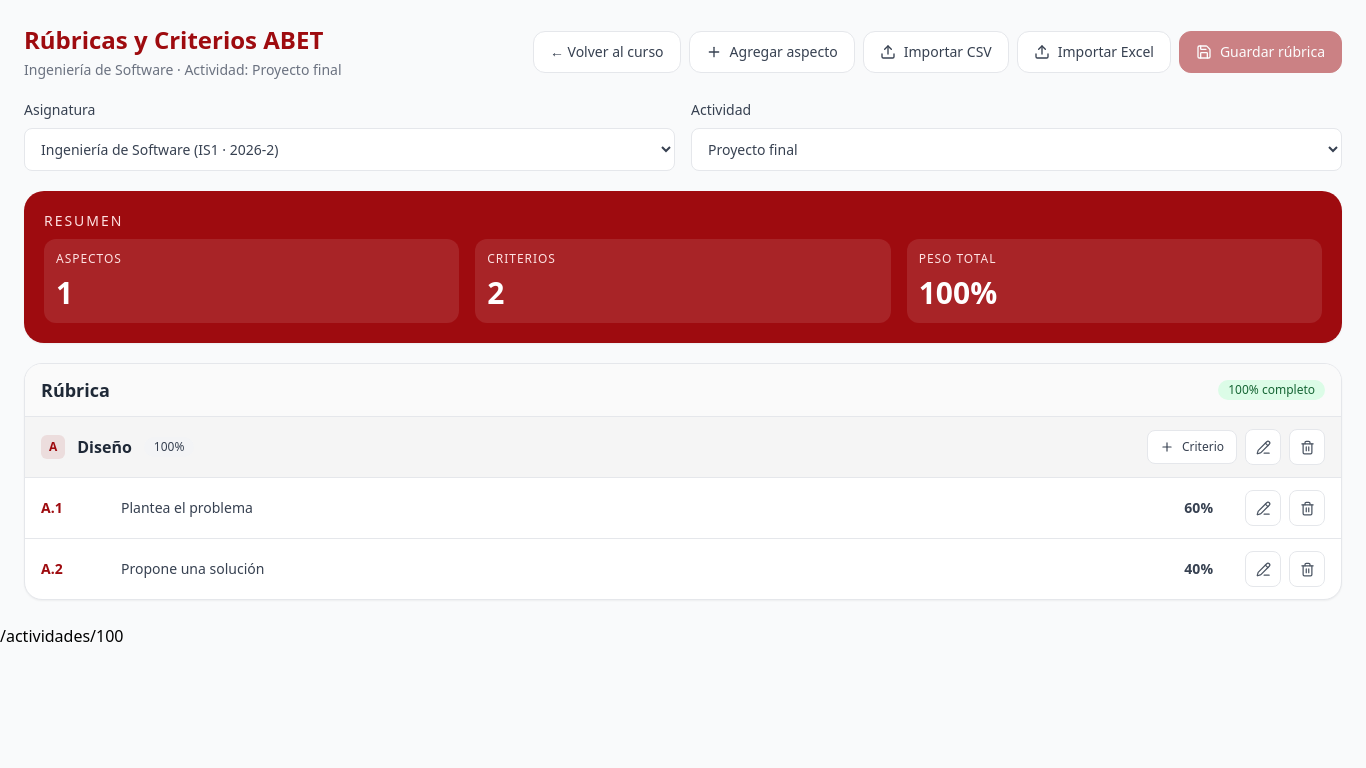
Test: RubricaPage — editar el borrador › vincular un aspecto a ABET pide RA y luego Criterio, y muestra la insignia
The width and height of the screenshot is (1366, 768).
Check: the button named "Eliminar Diseño" is shown, box top-left (1289, 429), bottom-right (1325, 465)
Click the button named "Editar Diseño": (1263, 447) top-left (1245, 429), bottom-right (1281, 465)
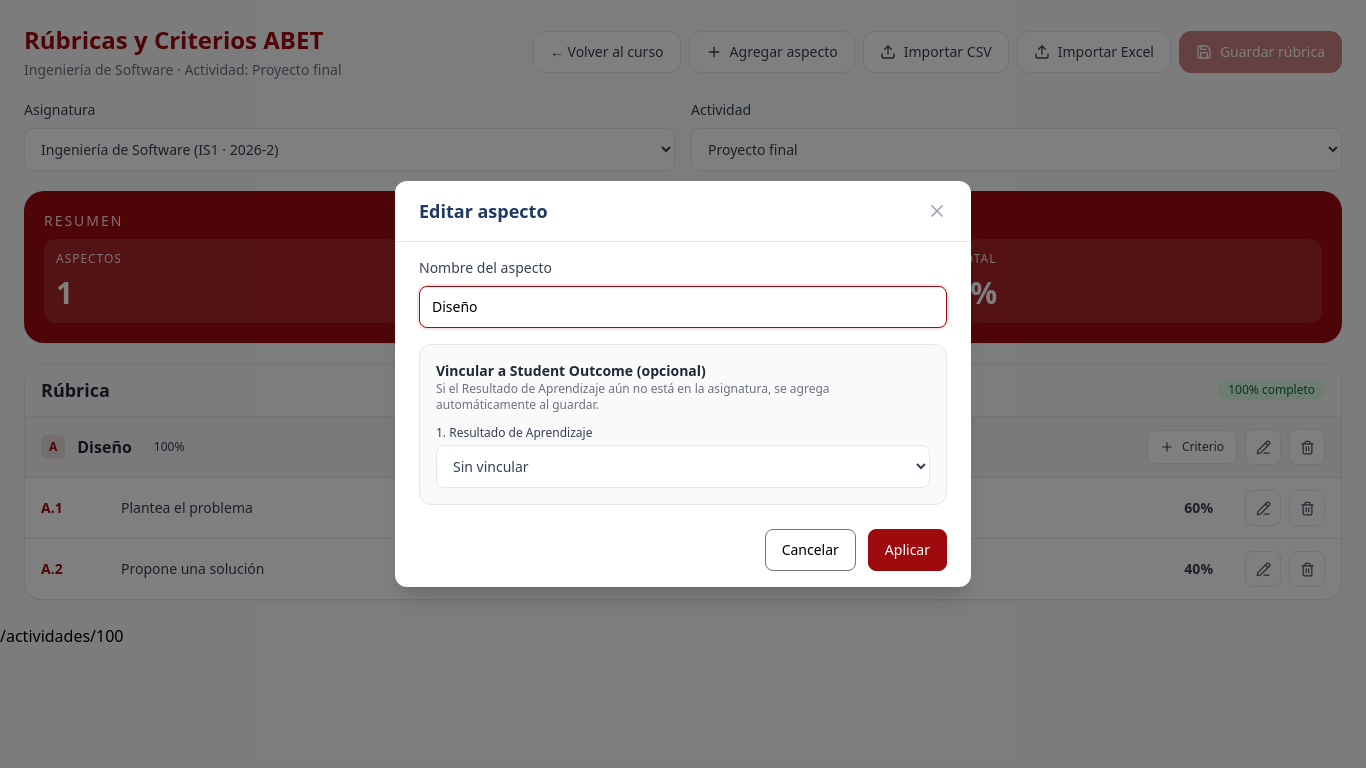
Check: the text "2. Criterio de Evaluación" is not shown
Select "2.1 — Diseña soluciones de ingeniería" in the dropdown: (683, 466) top-left (436, 445), bottom-right (930, 488)
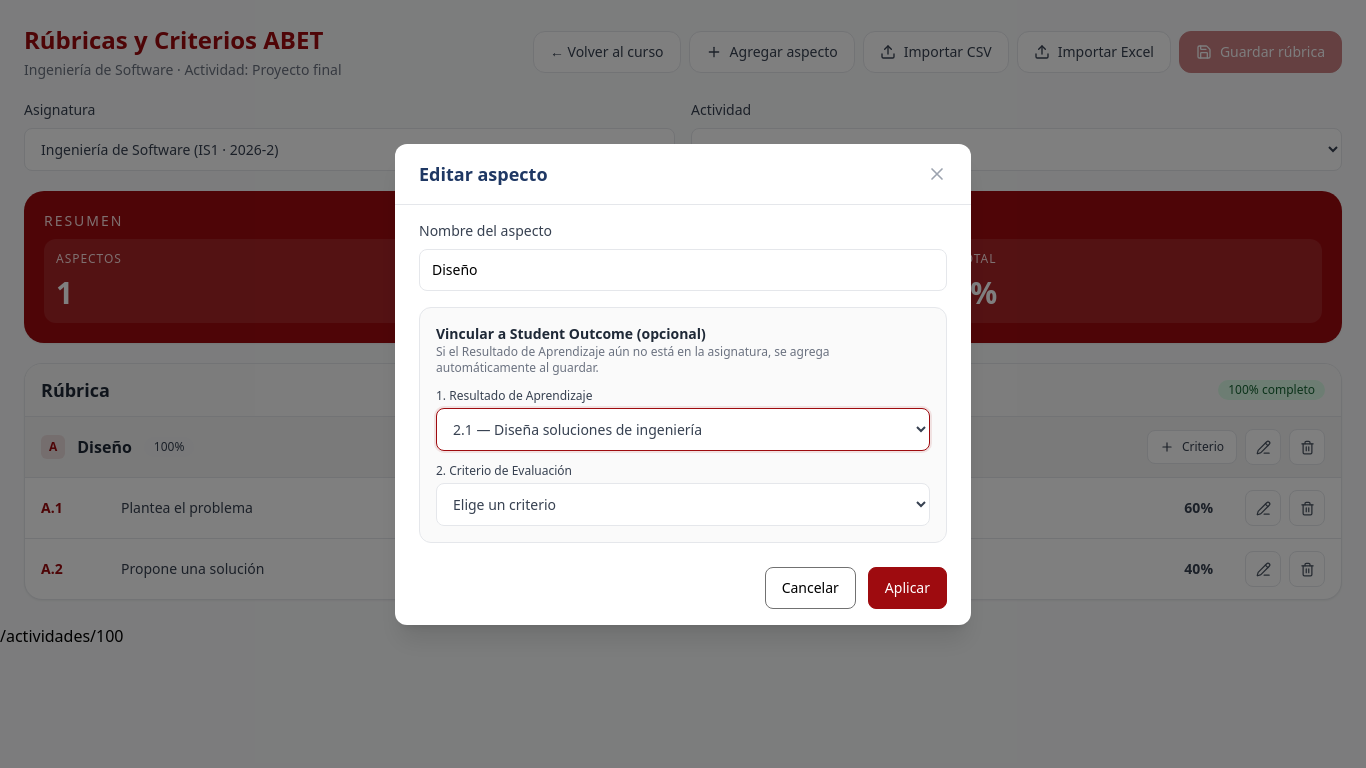
Click the button "Aplicar": (907, 588) top-left (868, 566), bottom-right (947, 608)
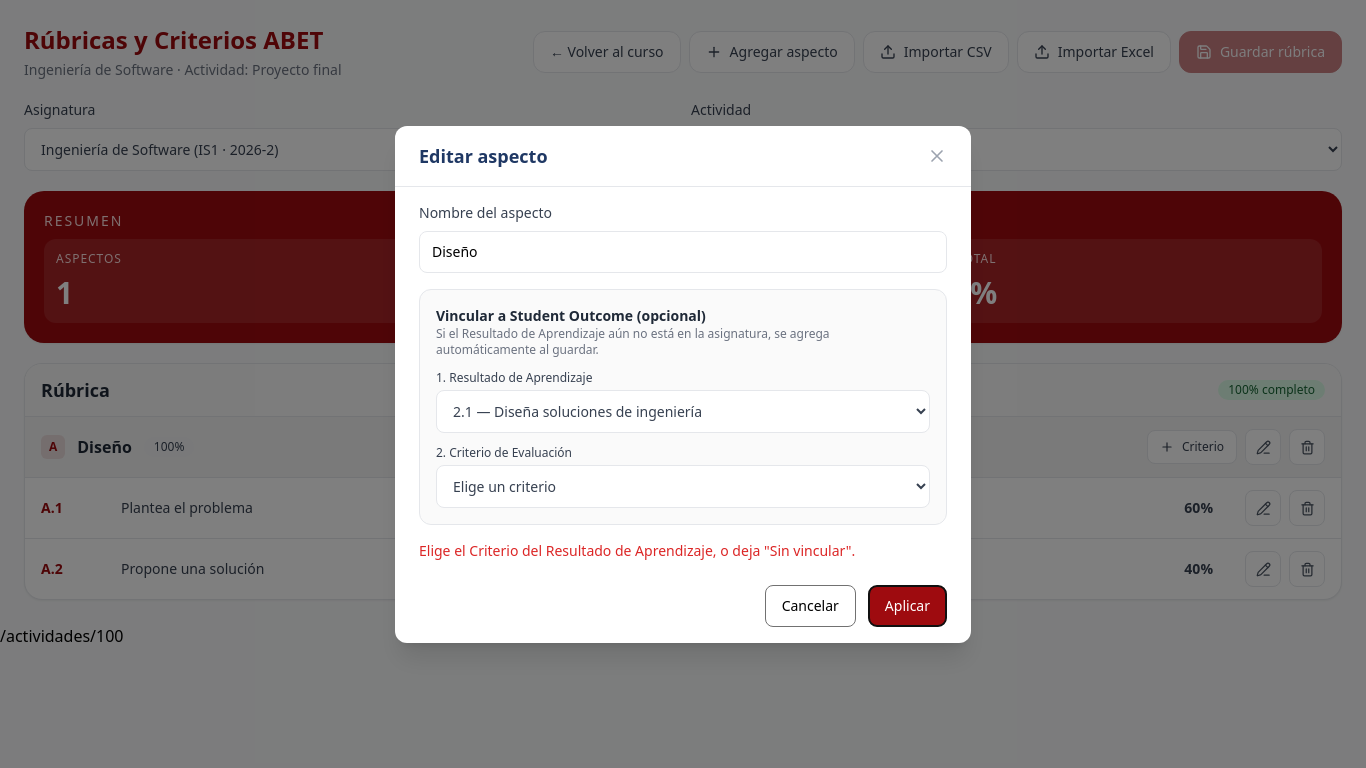
Check: the text "Elige el Criterio del Resultado de Aprendizaje, o deja \"Sin vincular\"." is shown, box top-left (419, 540), bottom-right (855, 560)
Select "2.1.1 — Identifica requisitos del problema" in the dropdown labelled "2. Criterio de Evaluación": (683, 486) top-left (436, 464), bottom-right (930, 508)
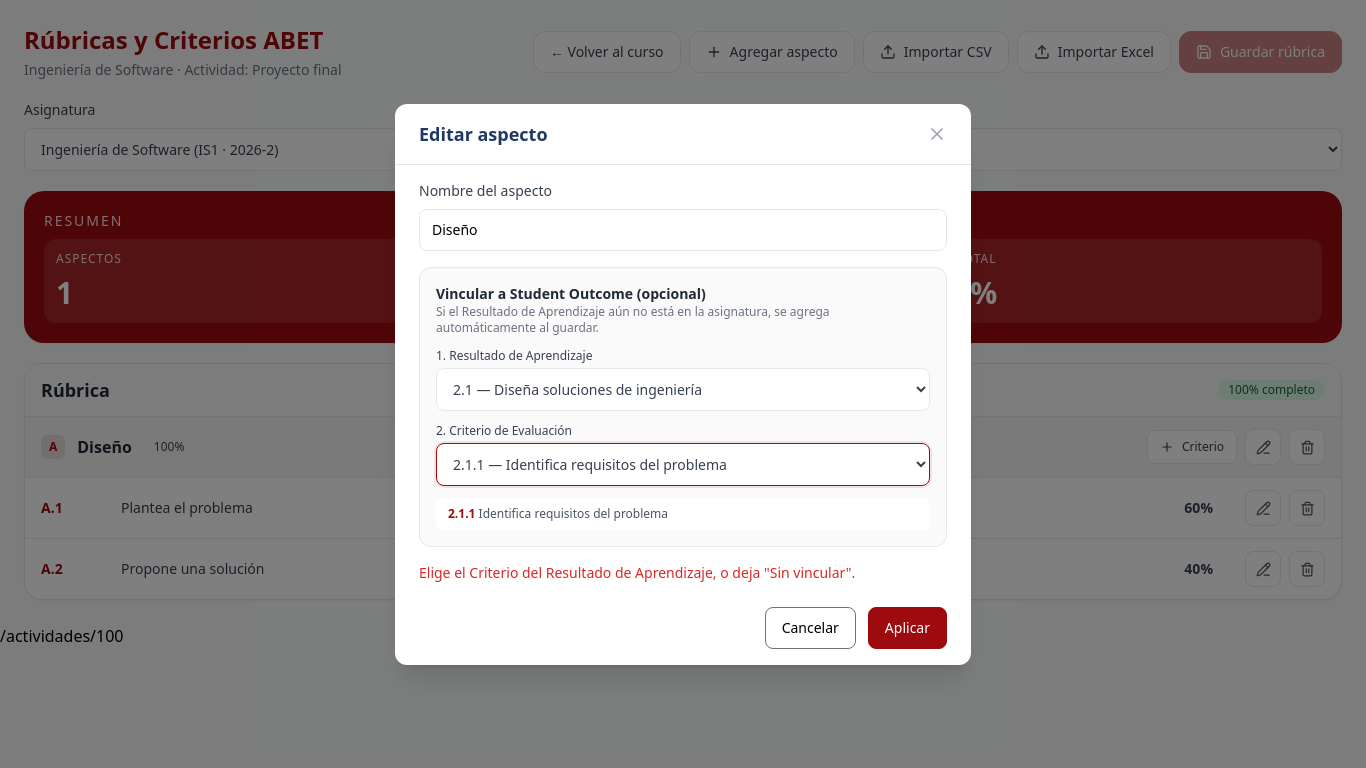
Check: the text "Identifica requisitos del problema" is shown, box top-left (479, 504), bottom-right (668, 522)
Click the button "Aplicar": (907, 628) top-left (868, 606), bottom-right (947, 648)
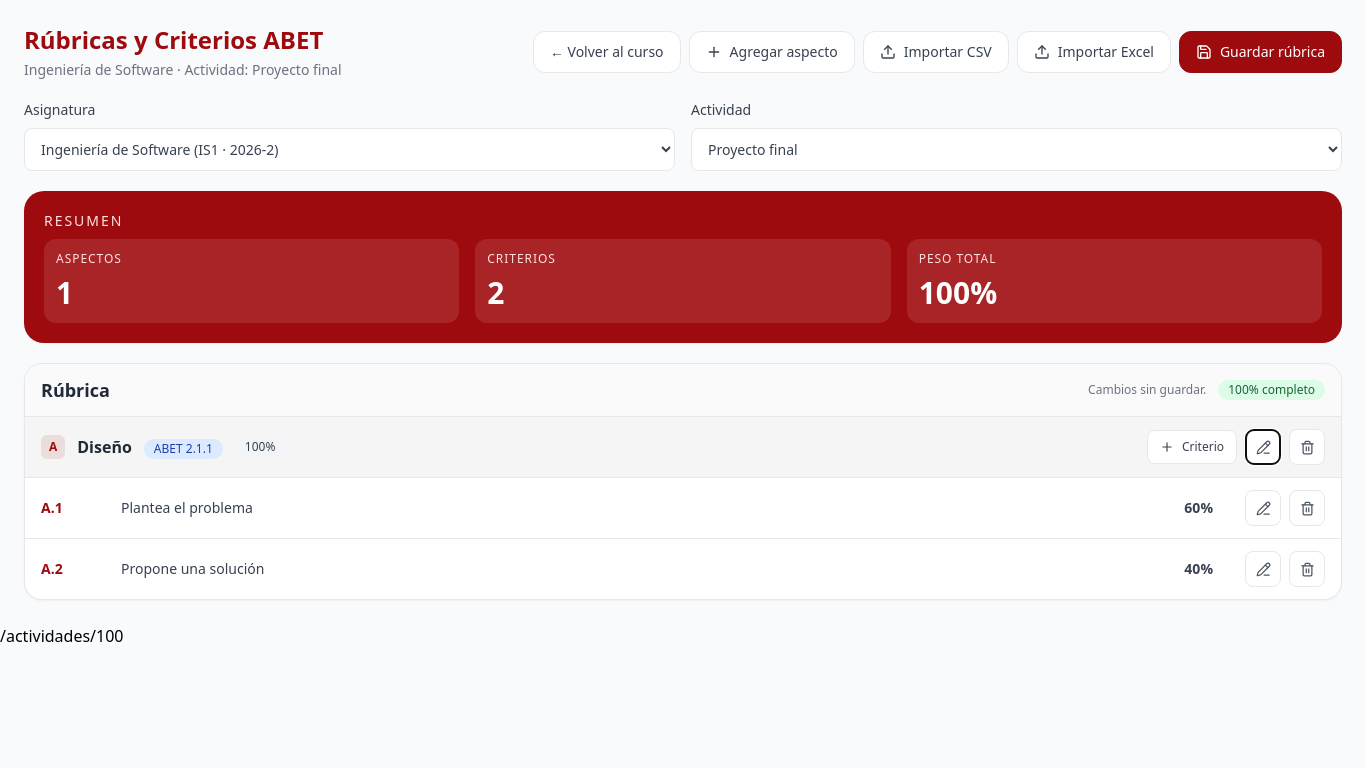
Note: Al volver a editarlo, el paso 1 arranca en su RA
Click the button named "Editar Diseño": (1263, 447) top-left (1245, 429), bottom-right (1281, 465)
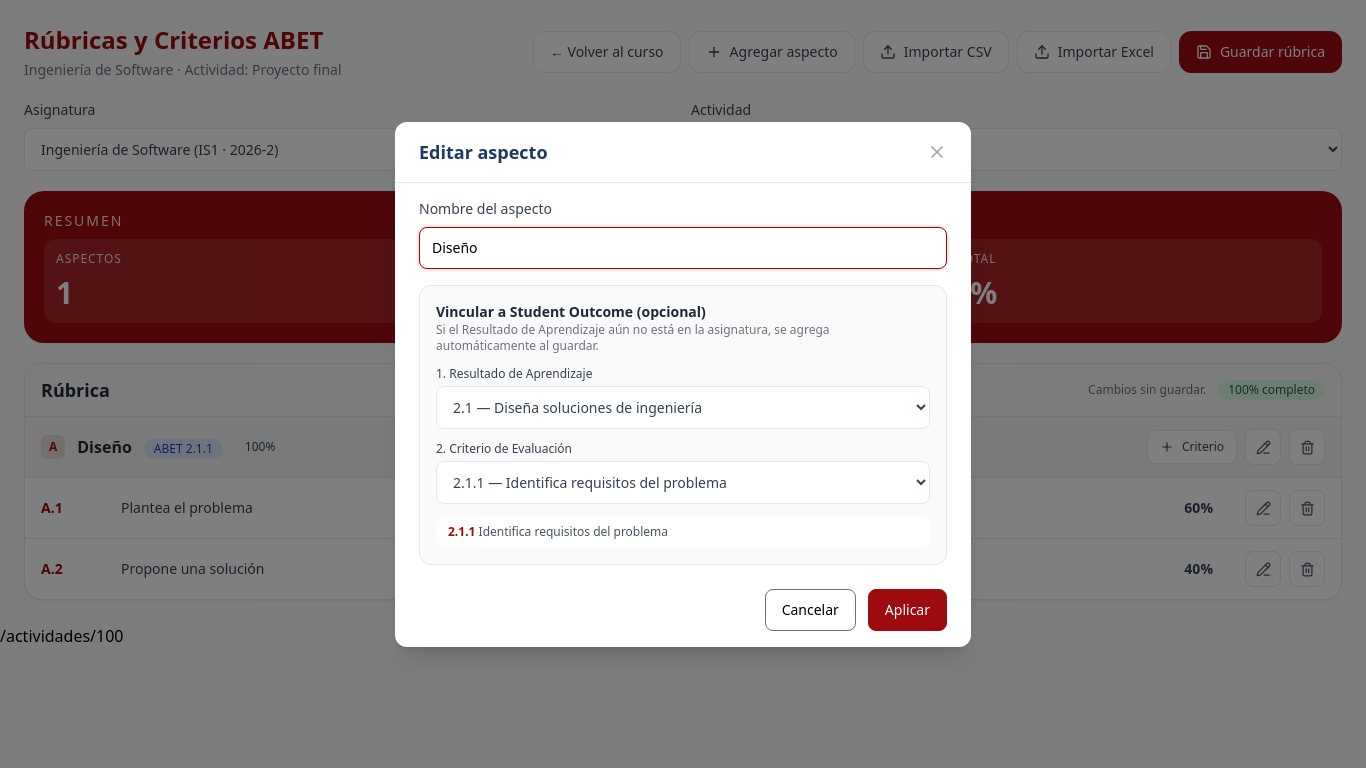
Check: the dropdown labelled "1. Resultado de Aprendizaje" shows "2.1 — Diseña soluciones de ingeniería", box top-left (436, 386), bottom-right (930, 428)
